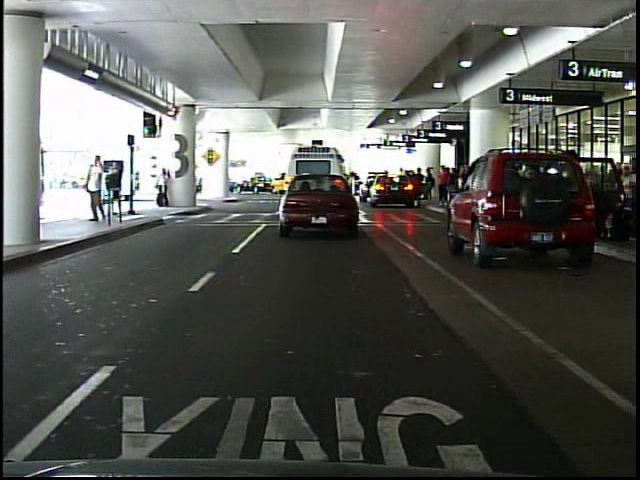person: (84, 152, 110, 227), (108, 157, 125, 219), (153, 167, 173, 210), (436, 164, 452, 206), (196, 165, 209, 204)
